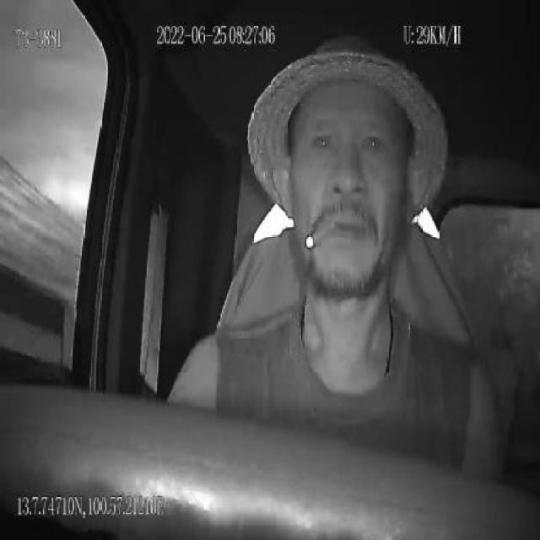smoking: (303, 218, 337, 250)
